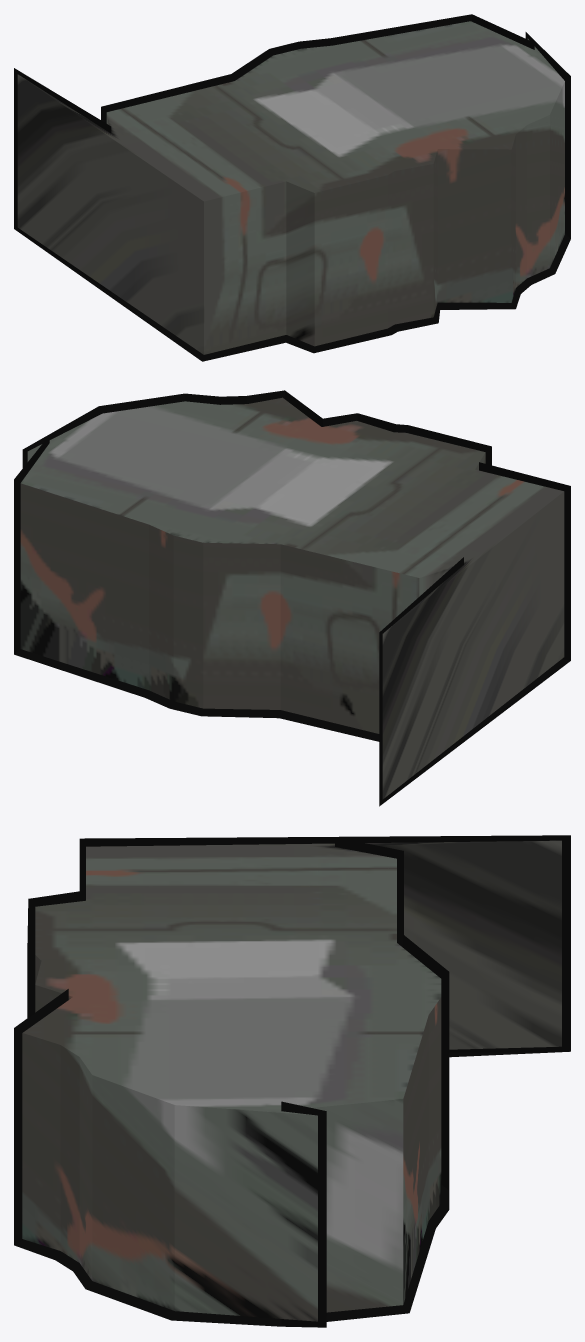
The model's file is Building_AncientDropshipEngine_Things_Building_Ruins_AncientDropshipEngine.glb.
The picture shows the model from 3 angles, top to bottom: view 1: azimuth 30°, elevation 25°; view 2: azimuth 150°, elevation 25°; view 3: azimuth 270°, elevation 25°; orthographic projection. The views are drawn at different scales.
Parts seen in each view (by area): view 1: Body, Outline; view 2: Body, Outline; view 3: Body, Outline.
Part boxes in pixels (x1=…): Body: x1=17, y1=21, x2=564, y2=354; Outline: x1=14, y1=14, x2=570, y2=361; Body: x1=20, y1=397, x2=564, y2=799; Outline: x1=14, y1=390, x2=570, y2=806; Body: x1=22, y1=840, x2=561, y2=1321; Outline: x1=14, y1=835, x2=570, y2=1327.
Bounding box in the file's own units: 1.43 × 0.5463 × 1.22.
Materials: 2 (1 with a texture image).
